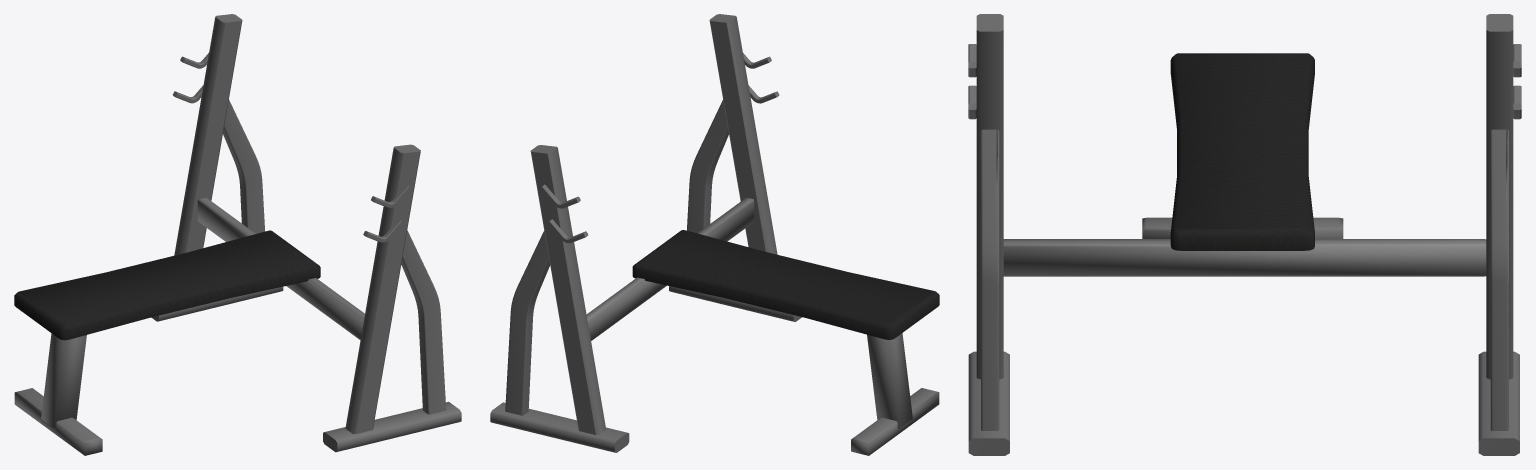
The model's file is aws_FitnessEquipment_01_visual.DAE.
3 renders of one model, left to right at view 1: azimuth 30°, elevation 25°; view 2: azimuth 150°, elevation 25°; view 3: azimuth 270°, elevation 25°, orthographic. The views are drawn at different scales.
Visible parts, largest first — view 1: aws_FitnessEquipment_01_visual; view 2: aws_FitnessEquipment_01_visual; view 3: aws_FitnessEquipment_01_visual.
Part boxes in pixels (box(x1,y1,x2,y2)): aws_FitnessEquipment_01_visual: box(14, 14, 461, 455); aws_FitnessEquipment_01_visual: box(490, 14, 939, 455); aws_FitnessEquipment_01_visual: box(968, 14, 1521, 455).
Bounding box in the file's own units: 109 × 111 × 89.71.
Materials: 1 (1 with a texture image).
